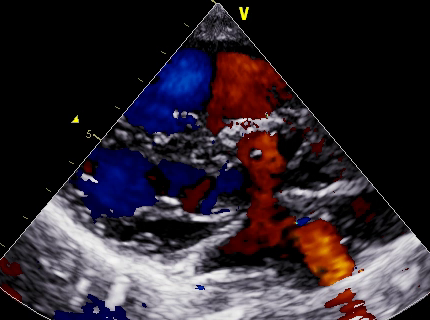AR: (231, 128, 307, 207)
